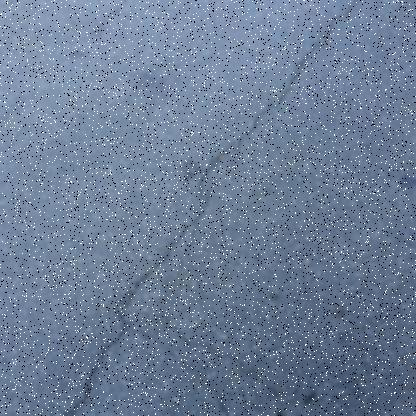Cracks: (63, 0, 392, 415)
